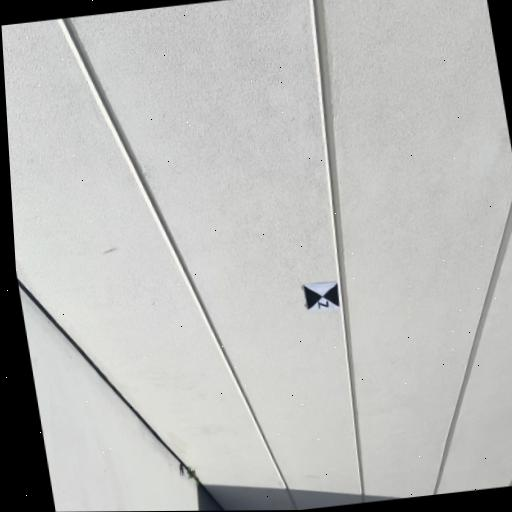target7: (302, 280, 341, 312)
